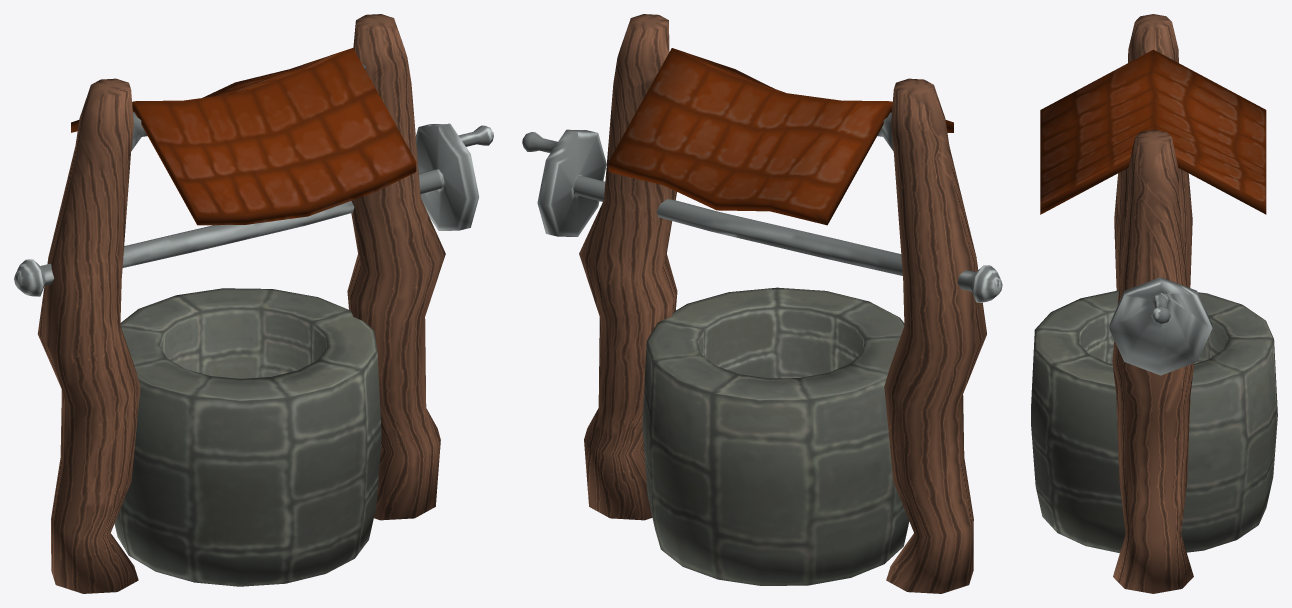
File: poço.fbx
3 renders of one model, left to right at view 1: azimuth 30°, elevation 25°; view 2: azimuth 150°, elevation 25°; view 3: azimuth 270°, elevation 25°, orthographic. The views are drawn at different scales.
Visible parts, largest first — view 1: Cylinder; view 2: Cylinder; view 3: Cylinder.
Part boxes in pixels (left/top/right/bottom): Cylinder: left=14, top=14, right=493, bottom=593; Cylinder: left=522, top=14, right=1002, bottom=593; Cylinder: left=1031, top=14, right=1277, bottom=593.
Size of the model in its own units: 4.34 by 4.25 by 2.18.
